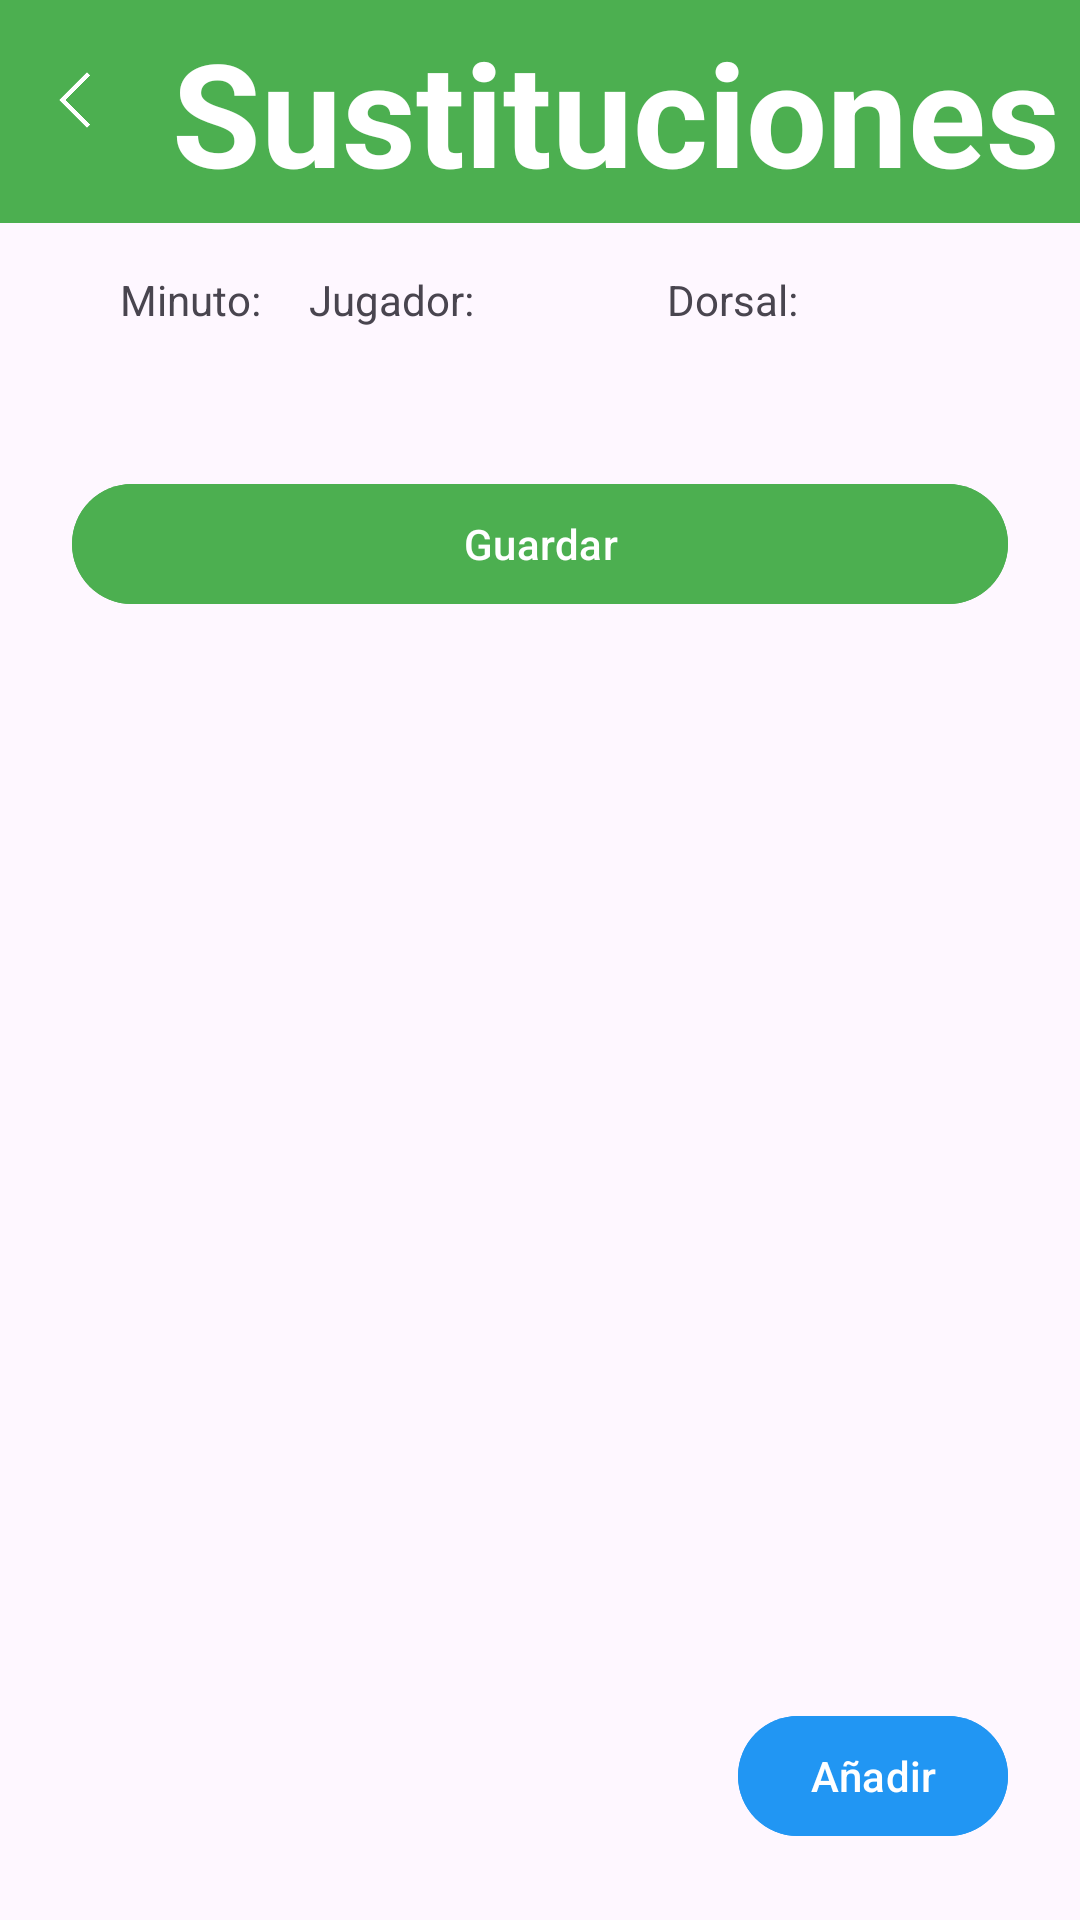

Icon bounding boxes for this 1080 x 1920 phone screenshot, format [left=x1, top=y1, right=x2, bottom=y2]:
arrow back: [left=59, top=72, right=90, bottom=128]
